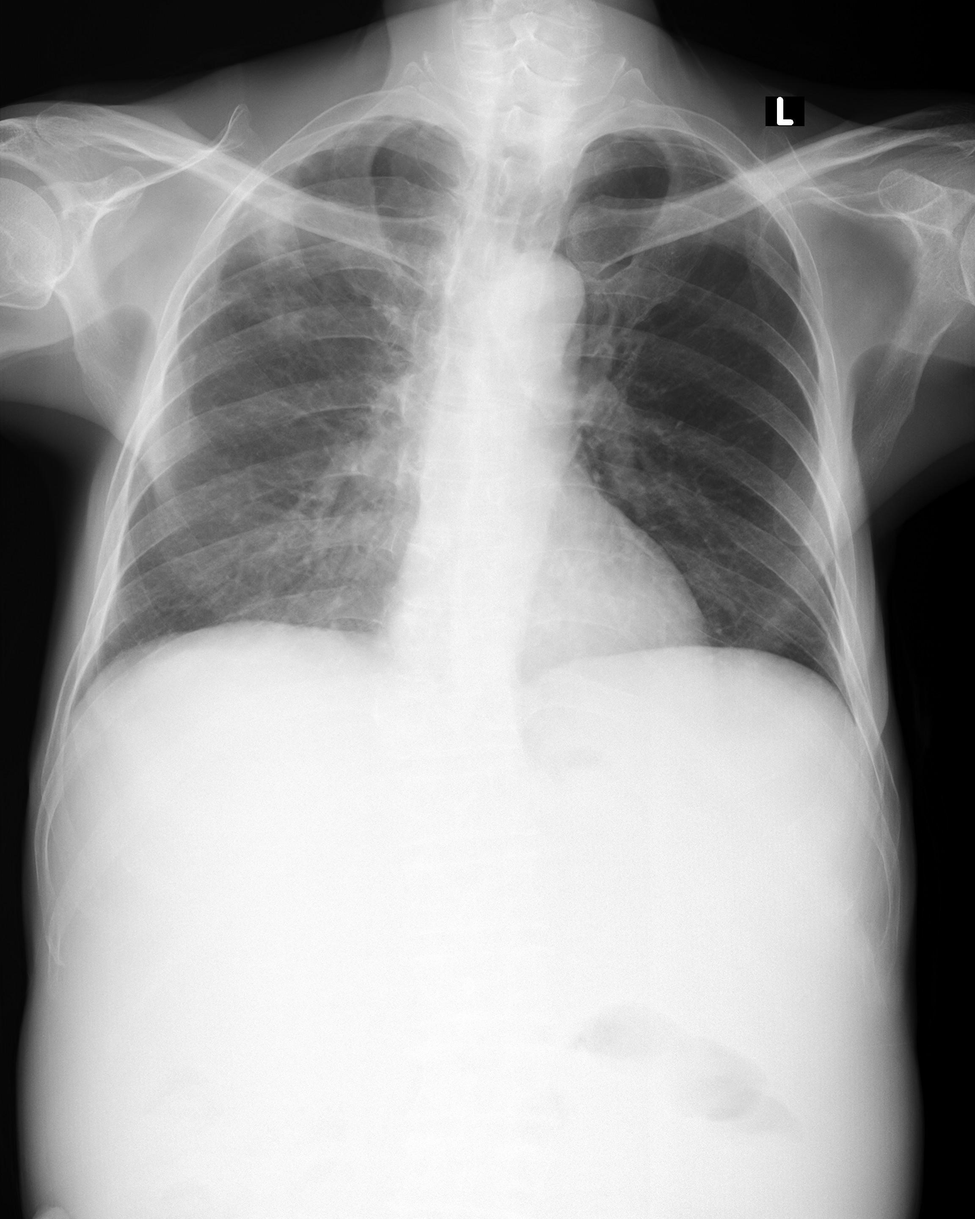Aortic enlargement: (488, 248, 587, 362)
Pleural thickening: (609, 125, 728, 162), (393, 116, 457, 144)
Pulmonary fibrosis: (182, 197, 377, 355)
